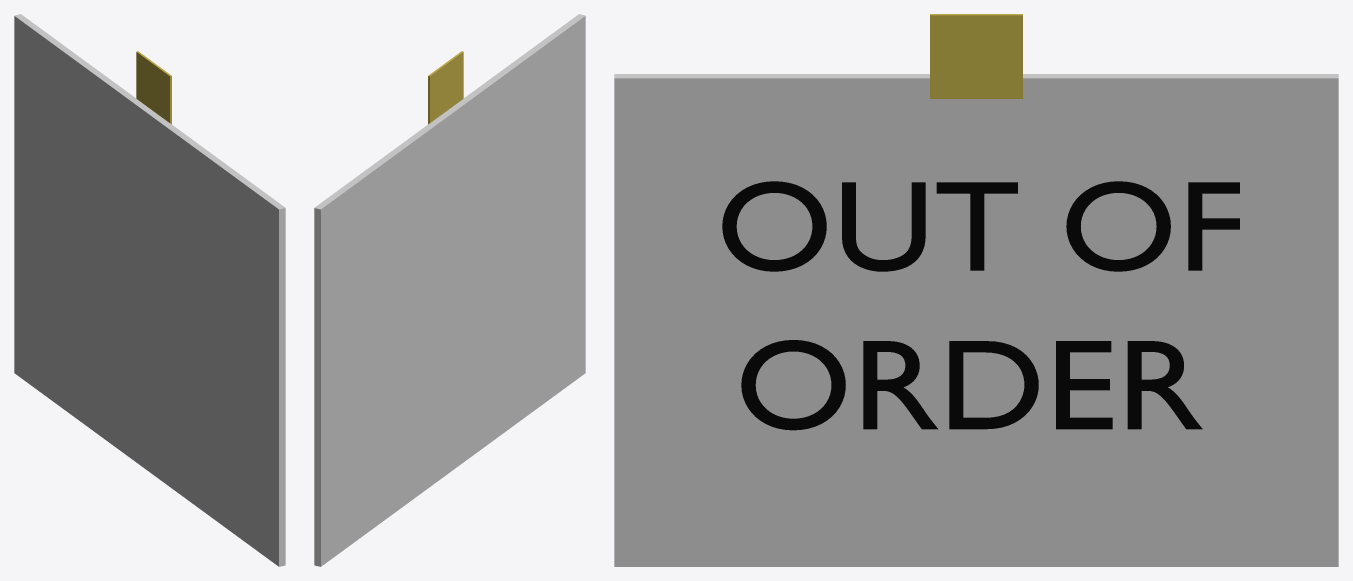
File: OutOfOrder.obj
3 views of the same model, side by side, from view 1: azimuth 30°, elevation 25°; view 2: azimuth 150°, elevation 25°; view 3: azimuth 270°, elevation 25° (orthographic). The views are drawn at different scales.
Visible parts, largest first — view 1: Cube, Cube.001; view 2: Cube, Cube.001; view 3: Cube, Text.001, Text, Cube.001.
Boxes of the visible parts, <box> form: Cube: <box>14,14,285,566</box>; Cube.001: <box>136,51,171,124</box>; Cube: <box>314,14,585,566</box>; Cube.001: <box>428,51,463,124</box>; Cube: <box>614,74,1338,566</box>; Text.001: <box>741,340,1202,430</box>; Text: <box>722,181,1239,271</box>; Cube.001: <box>930,14,1022,98</box>.
Bounding box in the file's own units: 0.0099 × 0.4484 × 0.5325.
